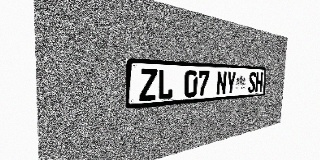0: (184, 70, 198, 98)
7: (197, 70, 209, 97)
H: (255, 72, 263, 92)
L: (157, 69, 173, 100)
N: (216, 71, 227, 95)
S: (248, 72, 256, 93)
Y: (226, 71, 236, 94)
Z: (139, 68, 157, 101)
